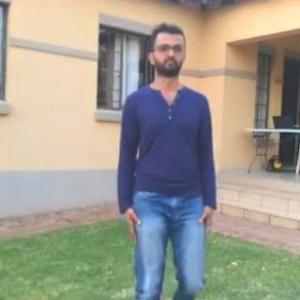follow: (121, 19, 216, 292)
